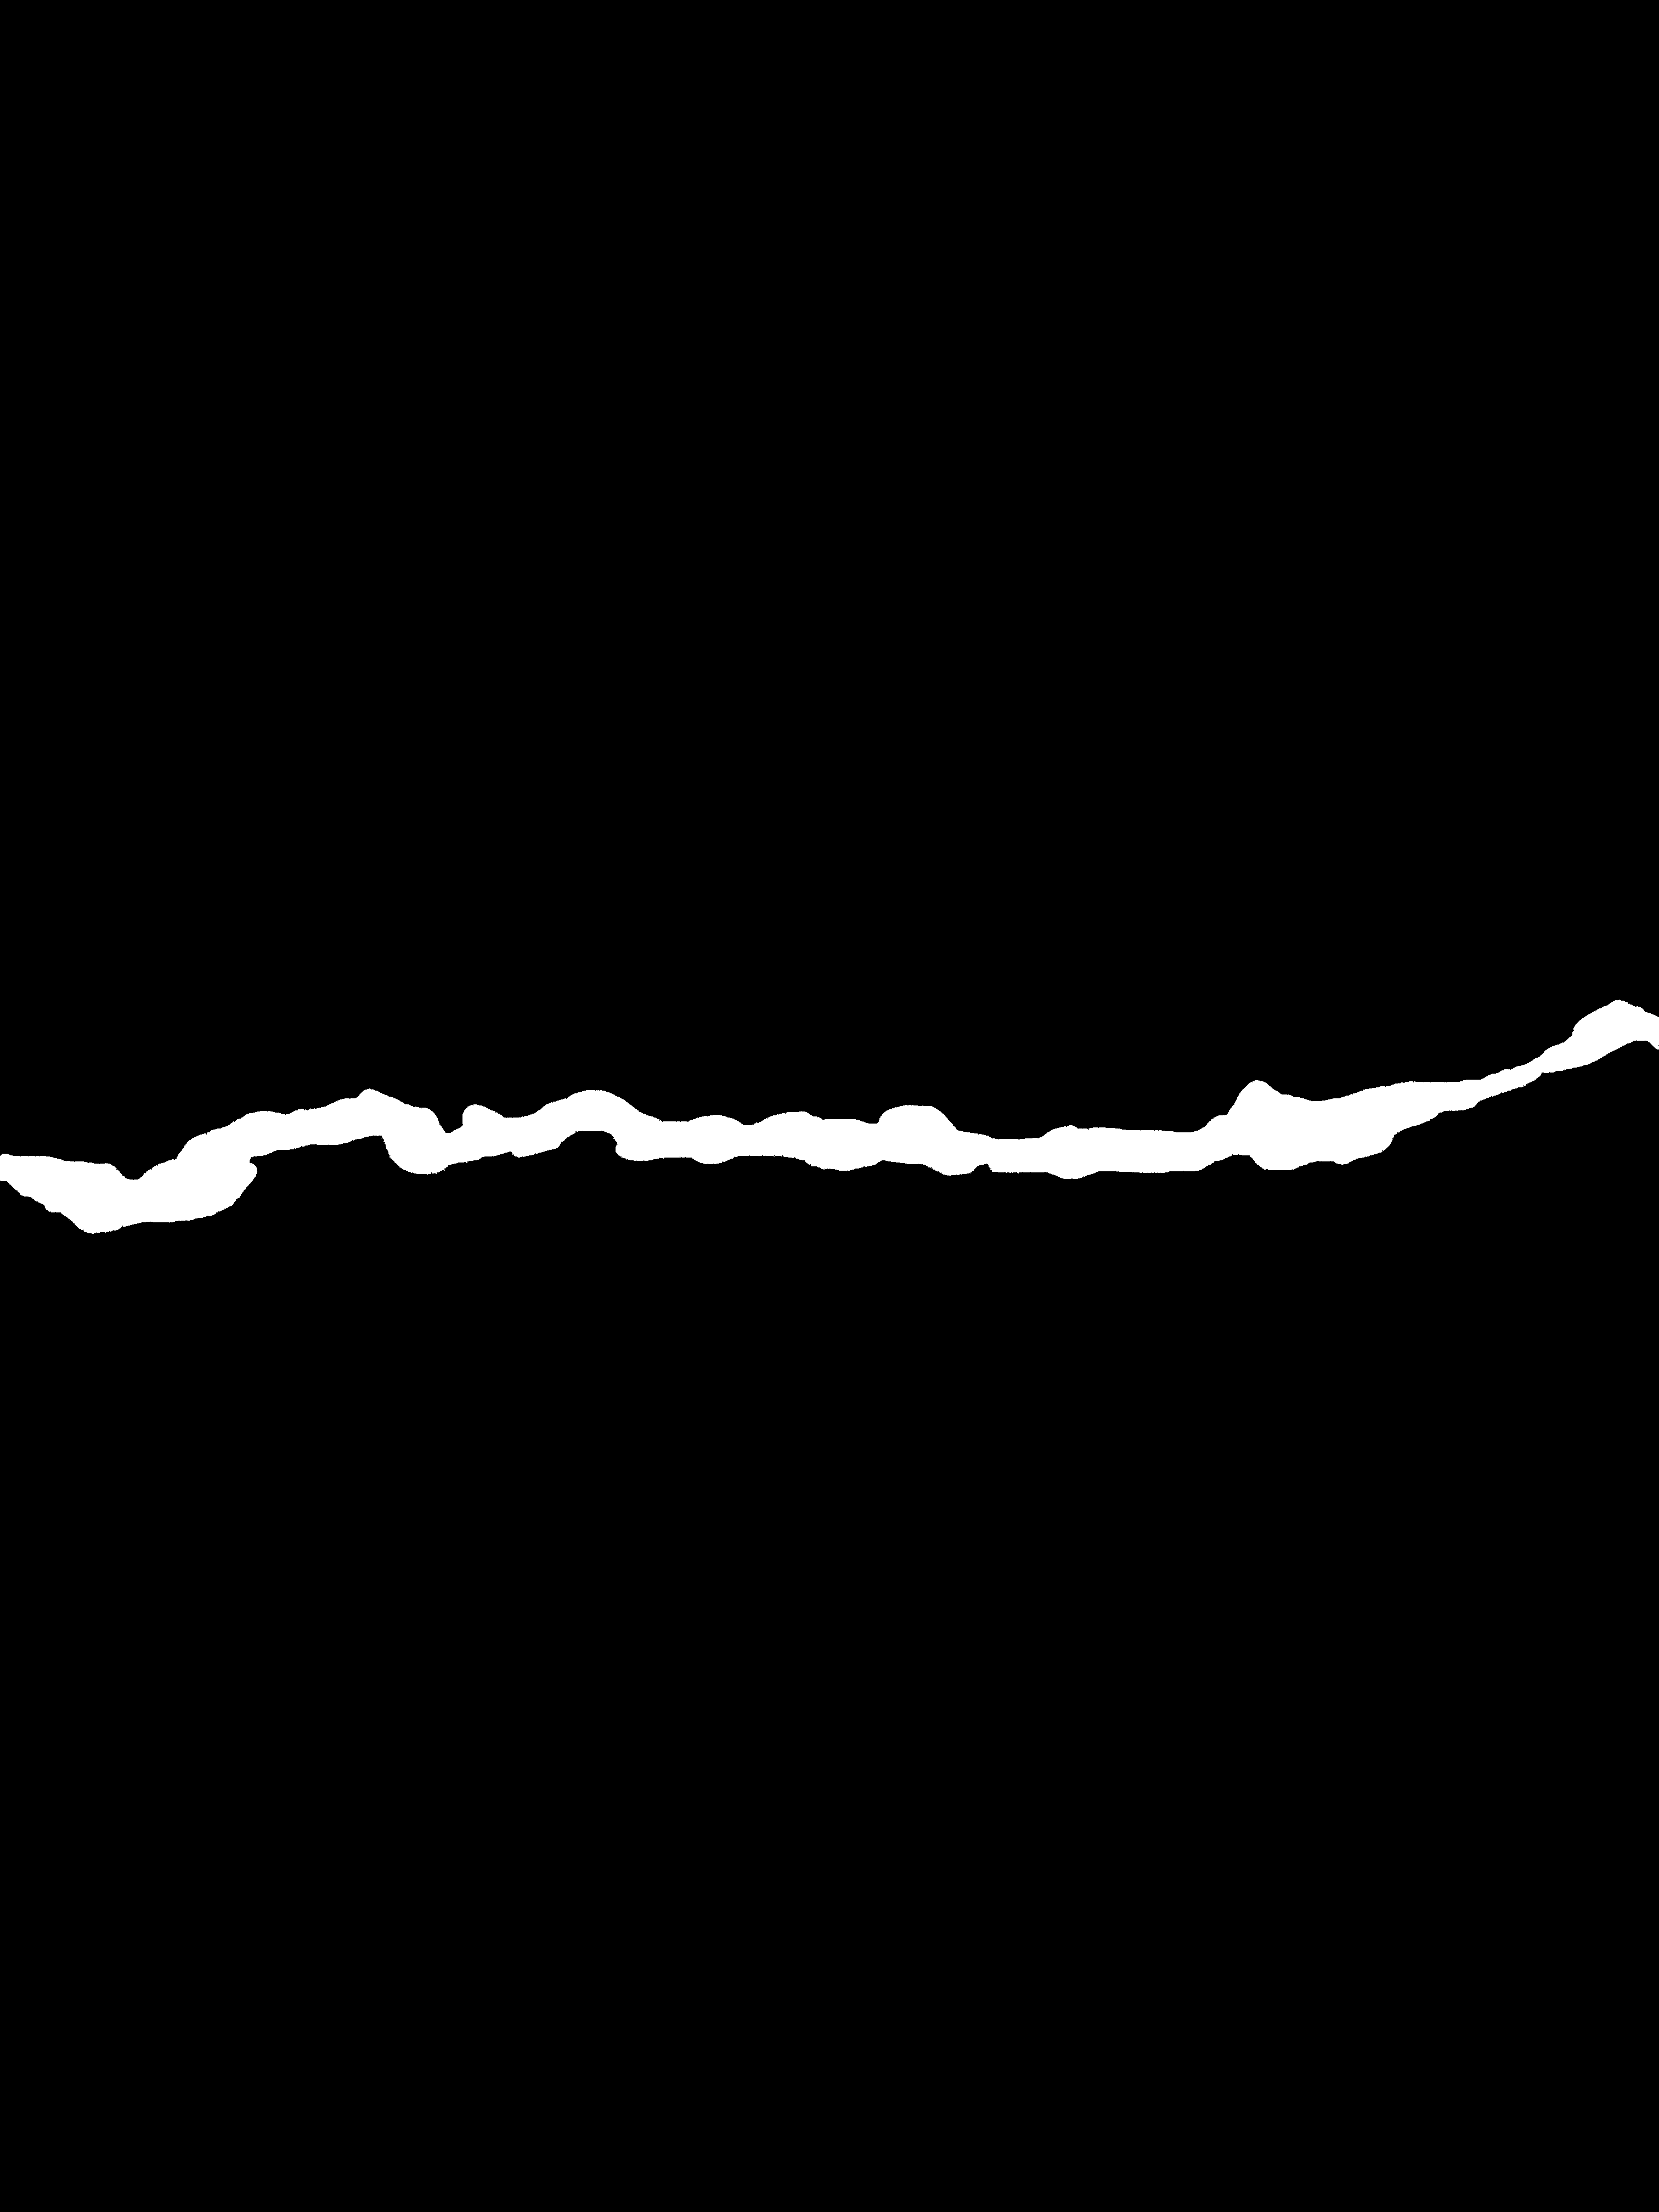Crack: (0, 968, 1659, 1259)
